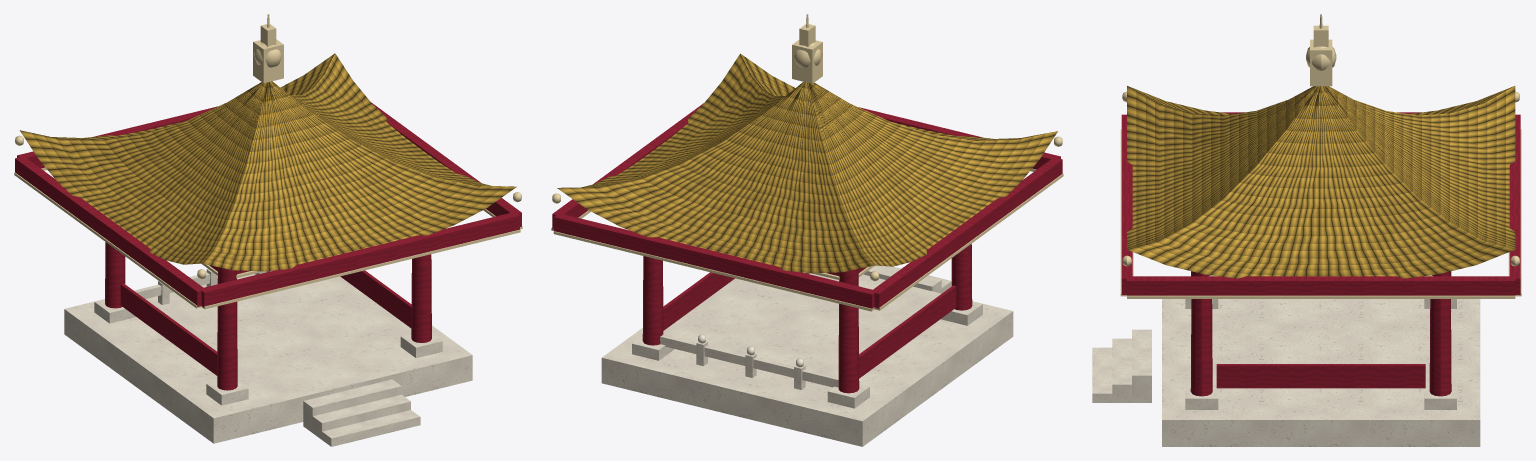
Rendered from pavilion-placeholder.glb.
3 views of the same model, side by side, from view 1: azimuth 30°, elevation 25°; view 2: azimuth 150°, elevation 25°; view 3: azimuth 270°, elevation 25° (orthographic). The views are drawn at different scales.
Parts seen in each view (by area): view 1: pavilion_placeholder; view 2: pavilion_placeholder; view 3: pavilion_placeholder.
Part boxes in pixels (<box>): pavilion_placeholder: <box>14,14,522,446</box>; pavilion_placeholder: <box>551,14,1063,446</box>; pavilion_placeholder: <box>1092,14,1521,446</box>.
Size of the model in its own units: 8.06 by 8.1 by 8.63.
6 materials, 3 textured.
